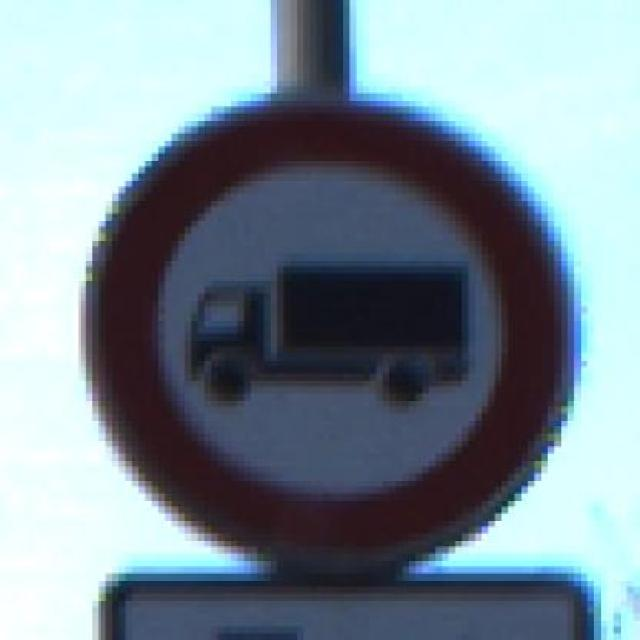Truck traffic is prohibited: (66, 93, 588, 581)
